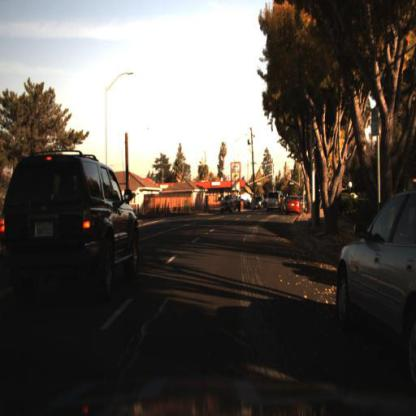car: (1, 151, 140, 299), (337, 190, 416, 395), (218, 192, 241, 217), (266, 189, 286, 212), (287, 196, 304, 217)
